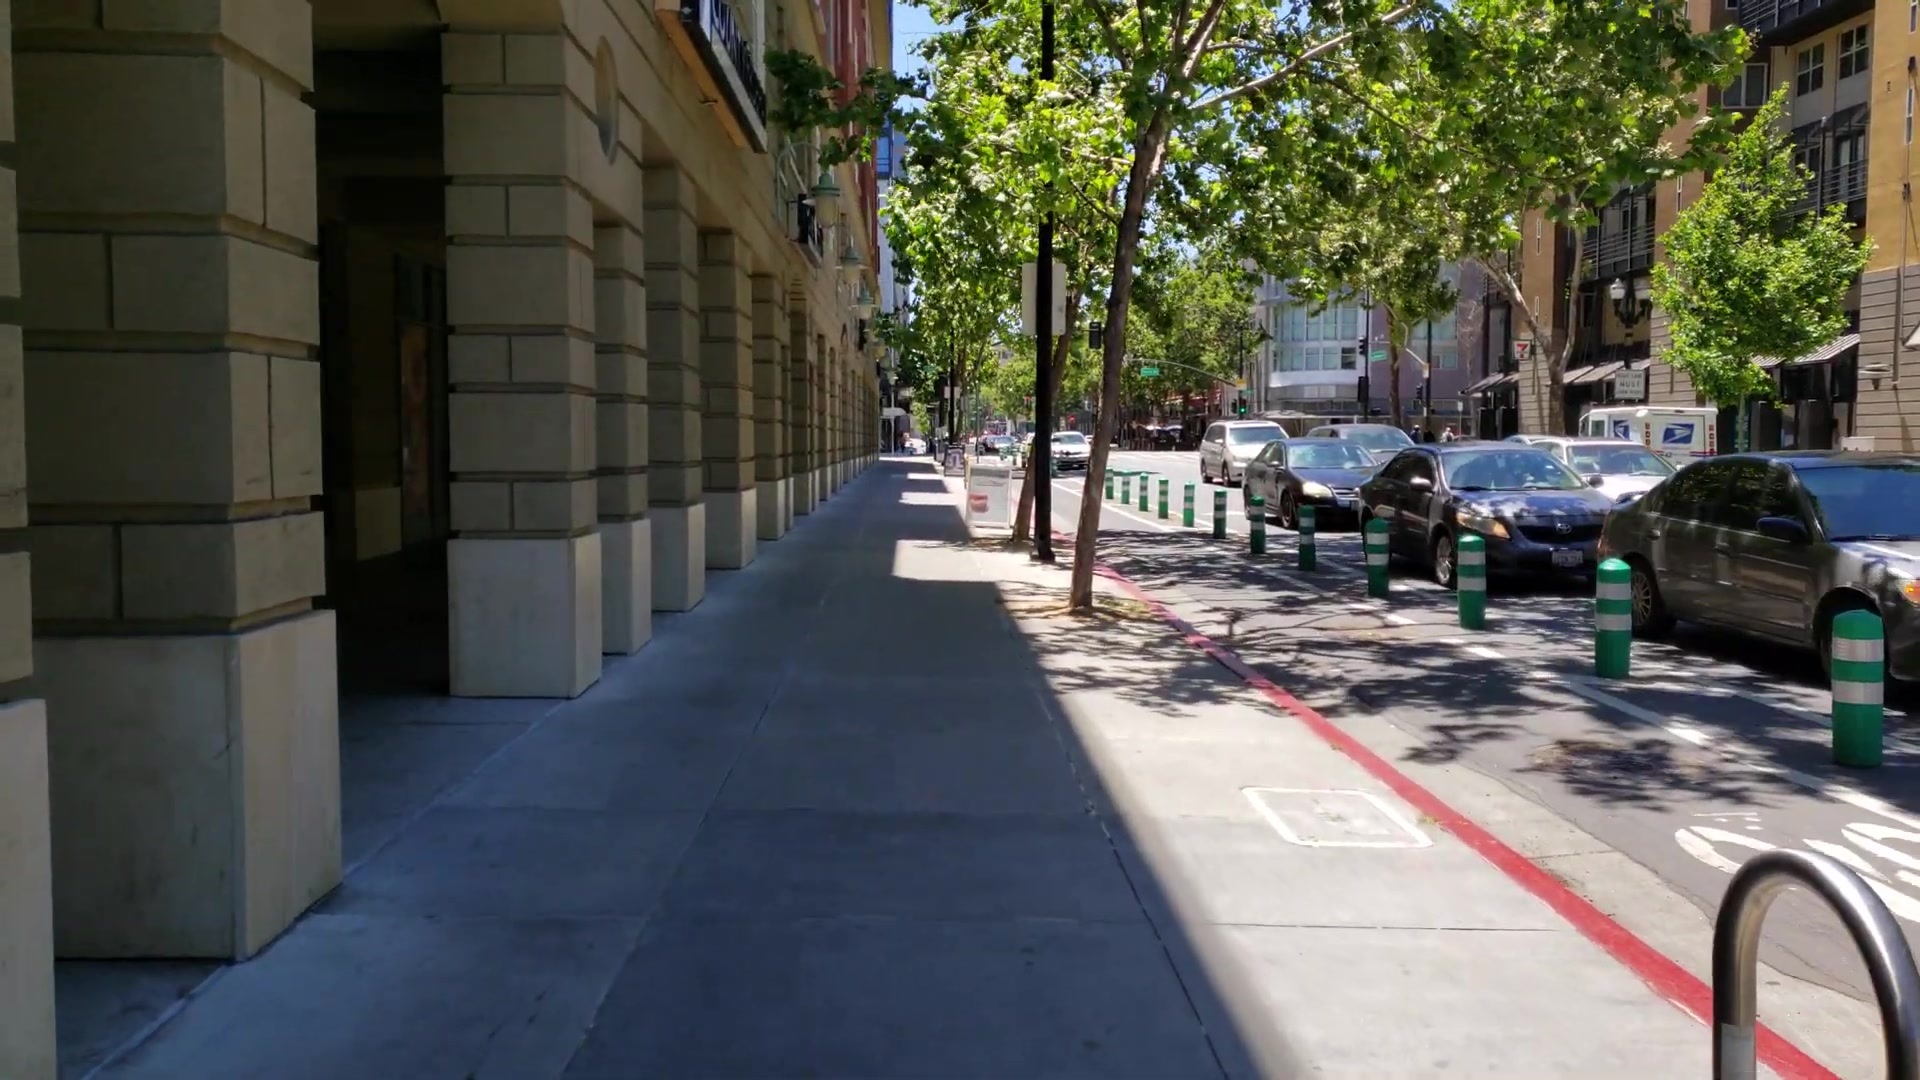vehicle: (1611, 458, 1913, 695), (1362, 444, 1602, 582), (1244, 439, 1364, 524), (1196, 422, 1284, 473)
